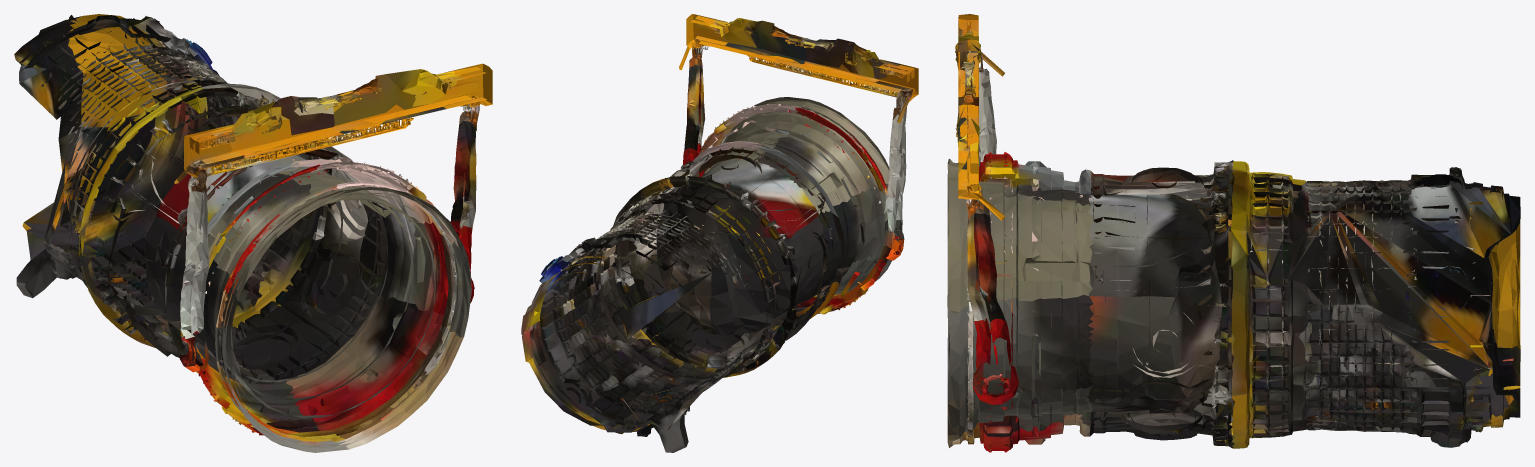
The model's file is technology-01.glb.
The picture shows the model from 3 angles, left to right: view 1: azimuth 30°, elevation 25°; view 2: azimuth 150°, elevation 25°; view 3: azimuth 270°, elevation 25°; orthographic projection. The views are drawn at different scales.
Visible parts, largest first — view 1: tmp3d7g_4oa.obj; view 2: tmp3d7g_4oa.obj; view 3: tmp3d7g_4oa.obj.
Boxes of the visible parts, left/top/right/bottom form: tmp3d7g_4oa.obj: left=14, top=14, right=492, bottom=452; tmp3d7g_4oa.obj: left=521, top=14, right=918, bottom=452; tmp3d7g_4oa.obj: left=947, top=14, right=1520, bottom=452.
Size of the model in its own units: 0.9475 by 1.1 by 1.55.
1 material, 1 textured.
